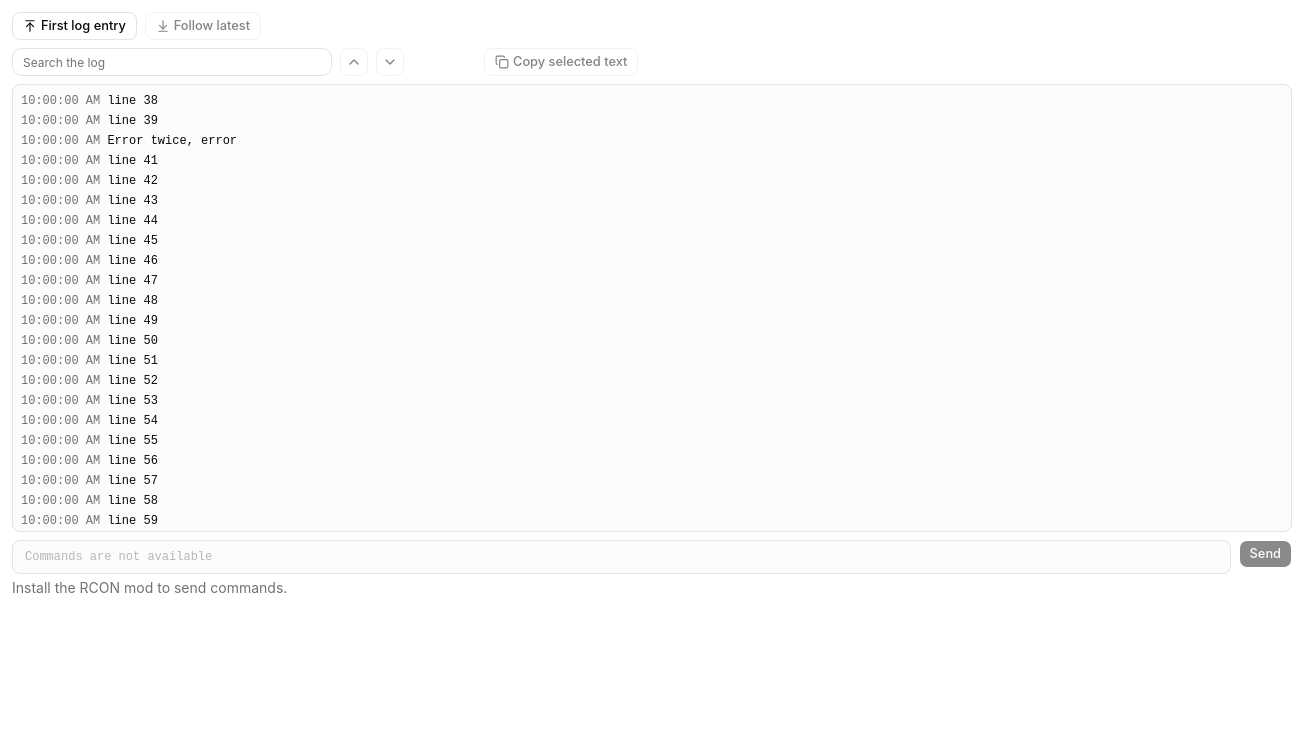
Scenario: searching the console › keeps the active match and the paused scroll while new lines arrive
(page scrolled)
Step 1. Type "error" into the search field named "Search the console" → (172, 62), box [12,48,332,76]
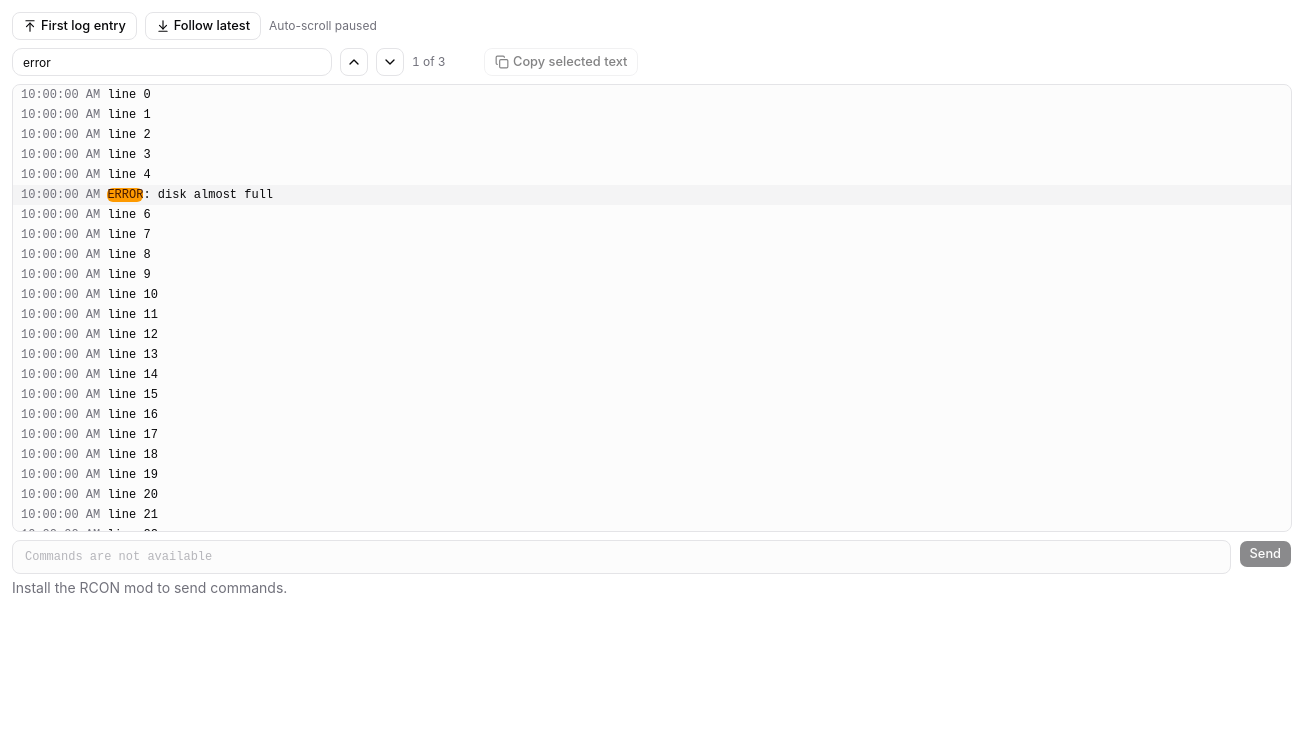
Step 2. Press Enter in the search field named "Search the console", box [12,48,332,76]
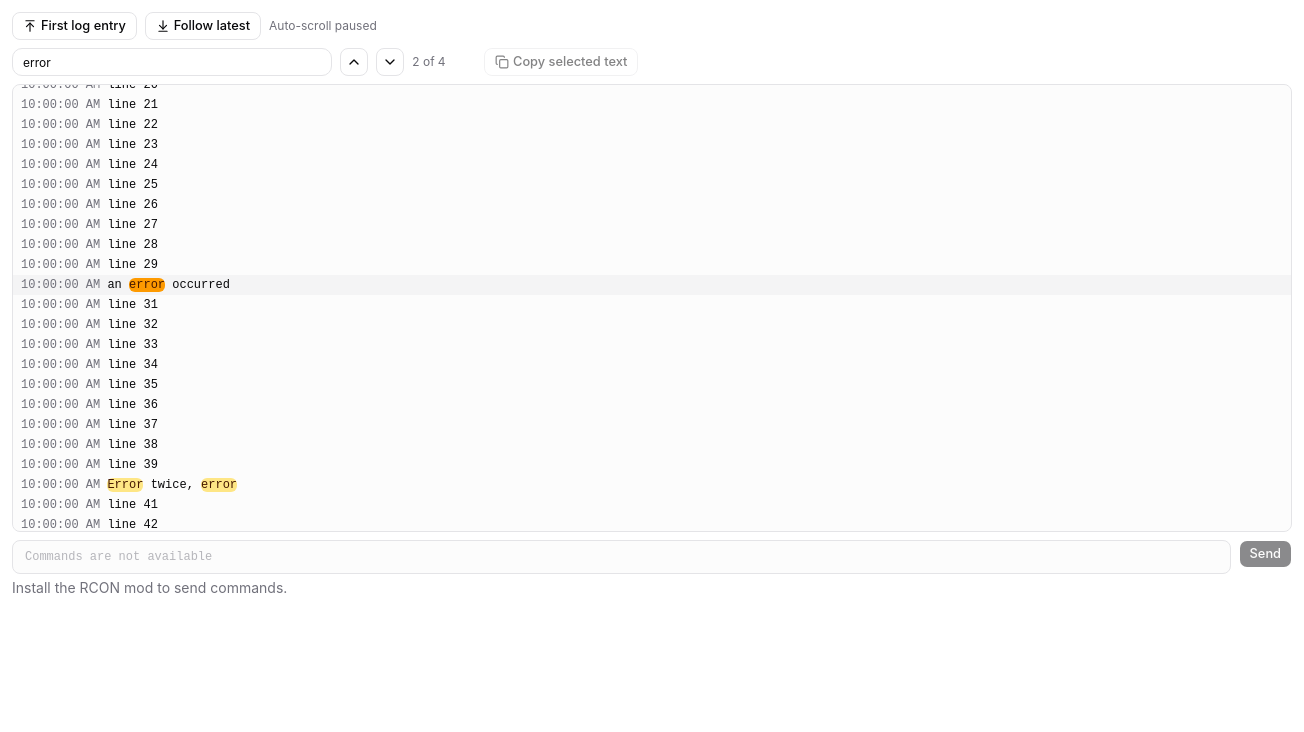
Expected: the text "Auto-scroll paused" is shown, [269,18,377,34]
Expected: the text "2 of 4" is shown, [412,54,446,69]
Expected: the element showing "10:00:00 AM an error occurred" is shown, [13,275,1291,295]
